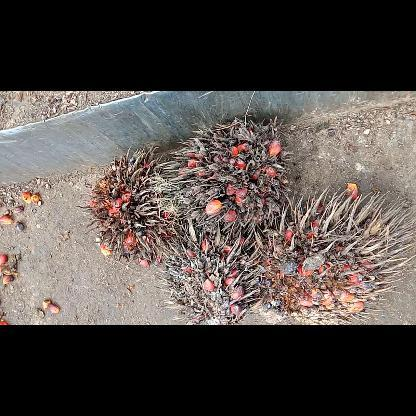Terlalu masak: (249, 182, 416, 324), (156, 112, 292, 236), (74, 142, 190, 266), (149, 222, 269, 324)
